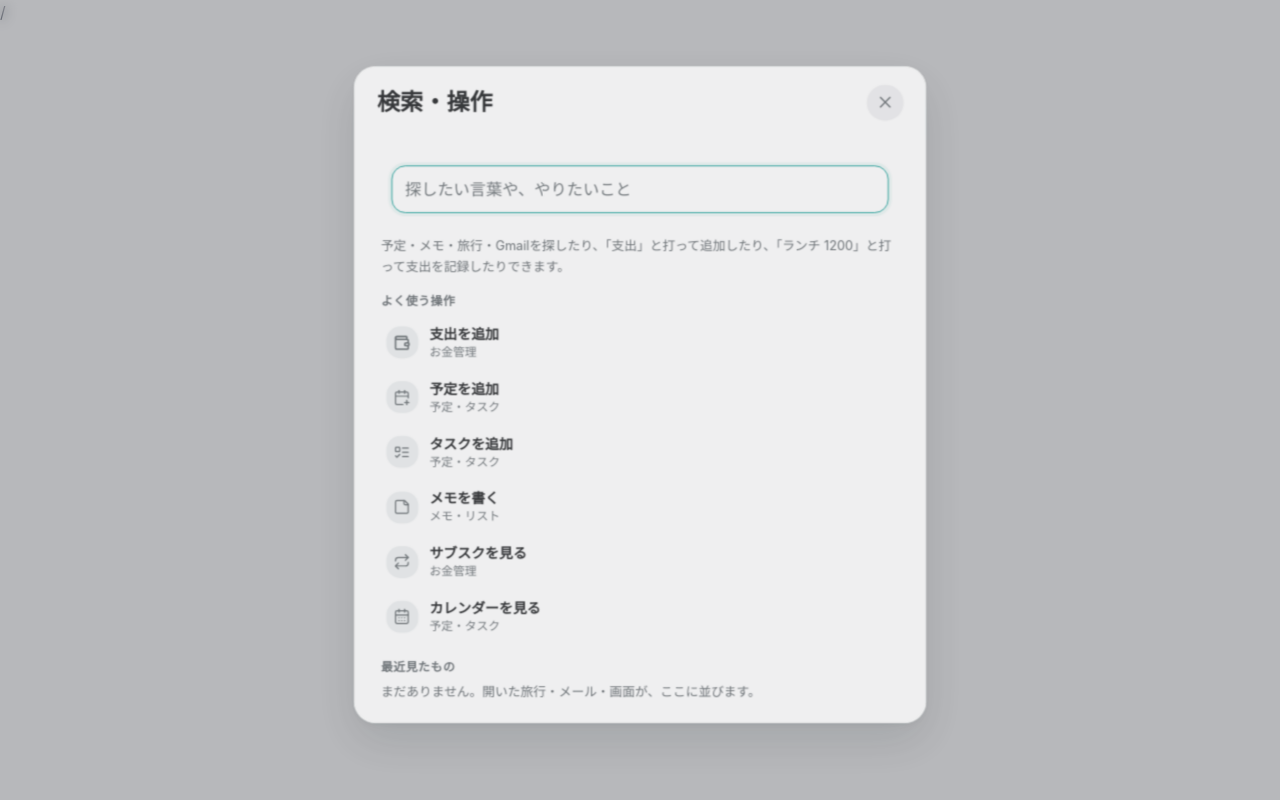
Test: まとめて検索(打った時) › 操作とデータの当たりを、通しで↑↓できる
Type "メモ" into the dropdown named "まとめて検索". click: (640, 186)
box: x1=390 y1=162 x2=890 y2=210
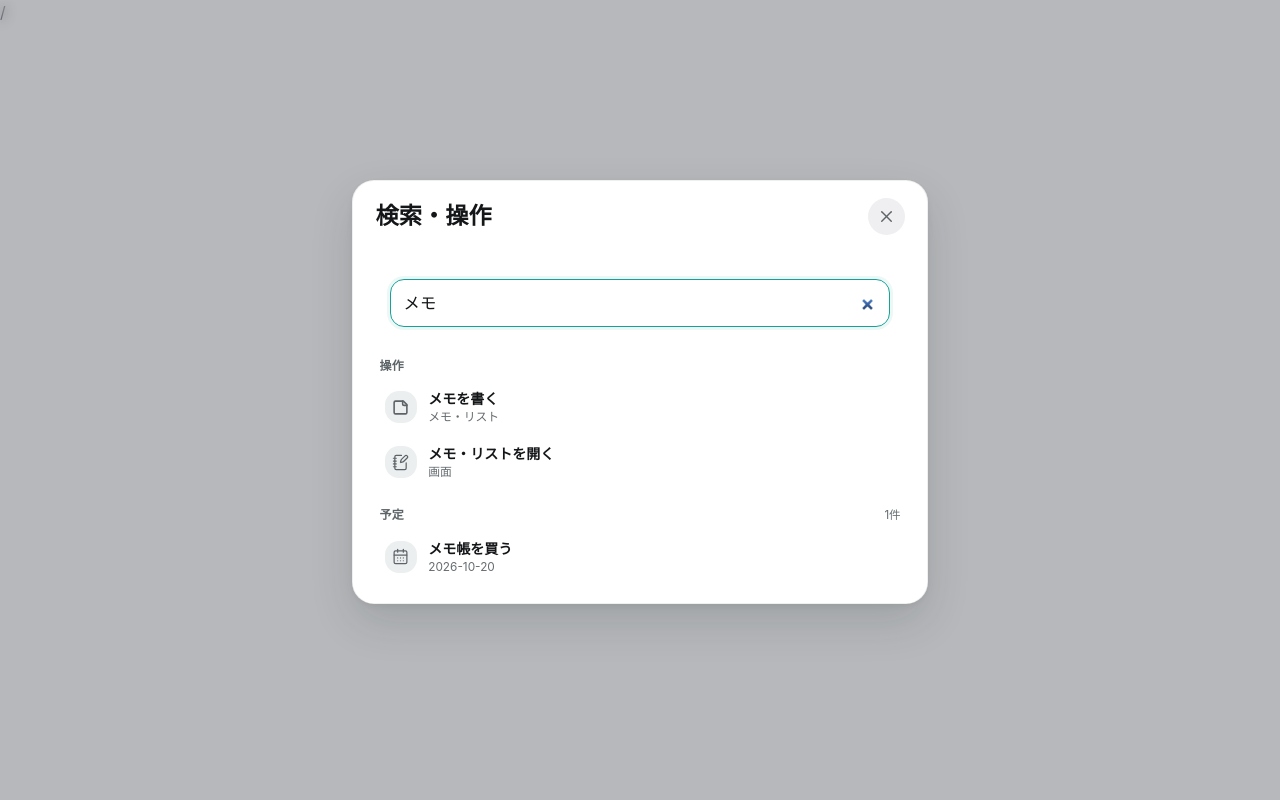
Check: the option "メモを書く メモ・リスト" is shown, box x1=385 y1=390 x2=499 y2=424
Press Arrowup
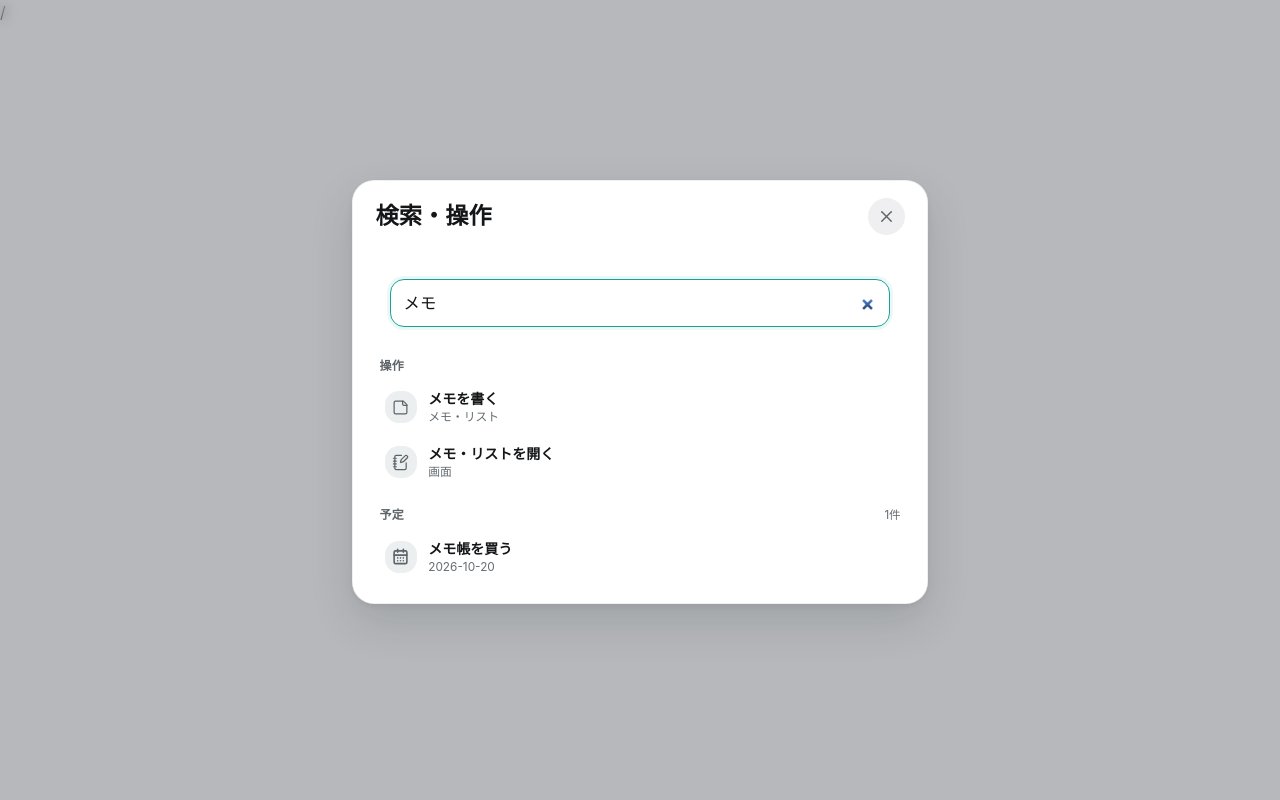
Press Enter
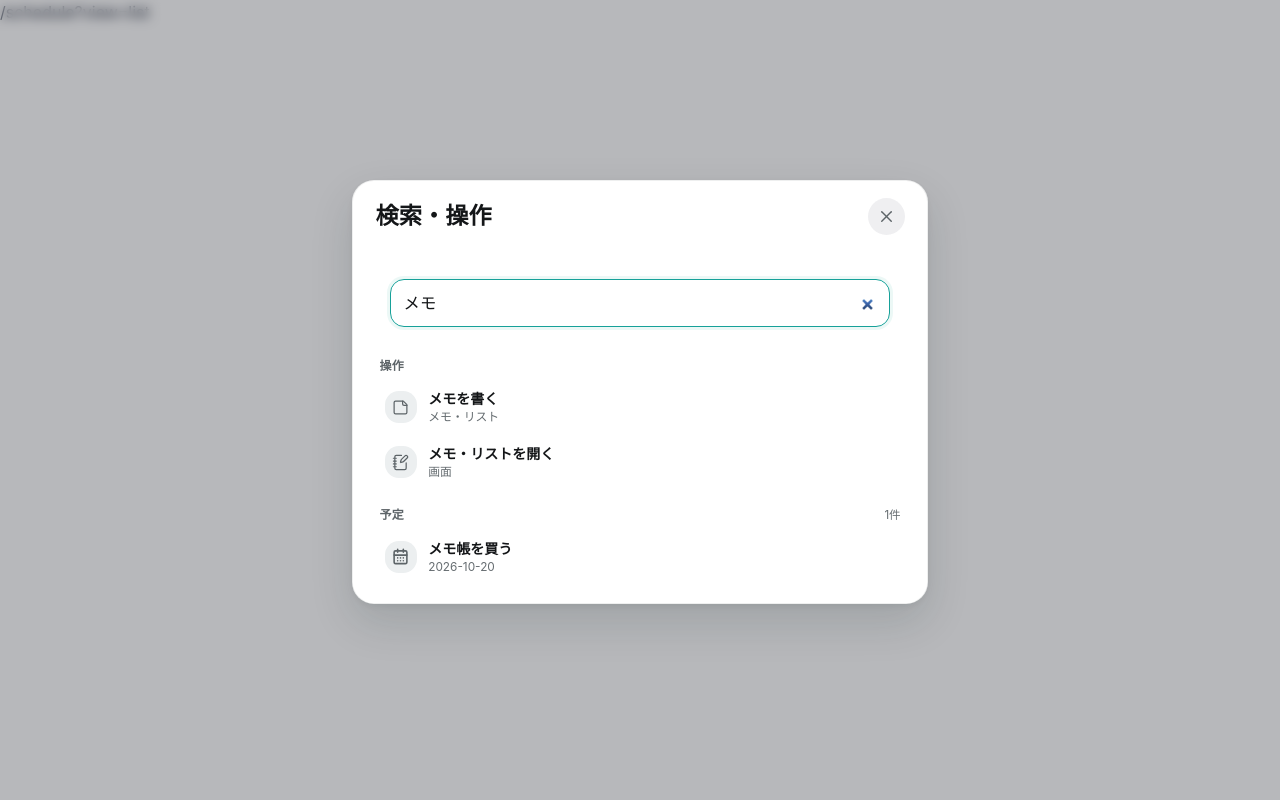
Check: the text with test id "location" reads "/schedule?view=list", box x1=0 y1=2 x2=150 y2=22
